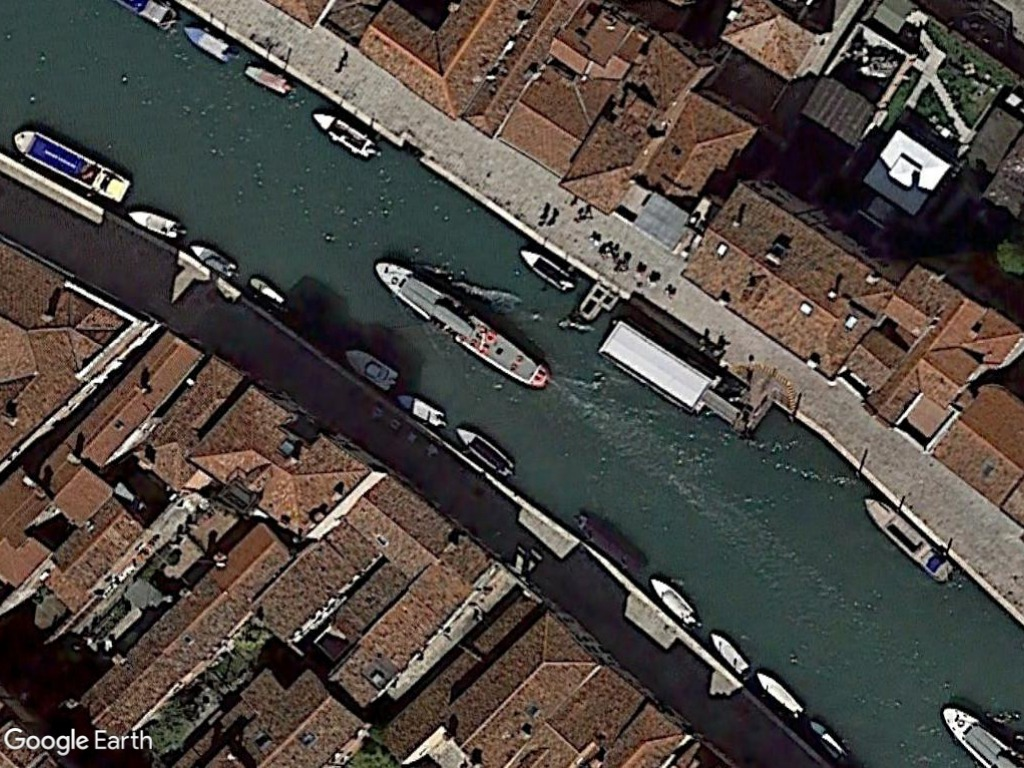boat: (370, 257, 553, 392), (9, 128, 134, 208), (857, 492, 956, 585), (305, 105, 380, 163), (453, 423, 520, 481), (516, 247, 580, 298), (337, 344, 401, 392), (644, 575, 701, 627), (754, 666, 804, 722), (391, 383, 446, 430), (705, 627, 753, 680), (180, 23, 239, 65), (186, 242, 240, 281), (123, 208, 184, 241)
